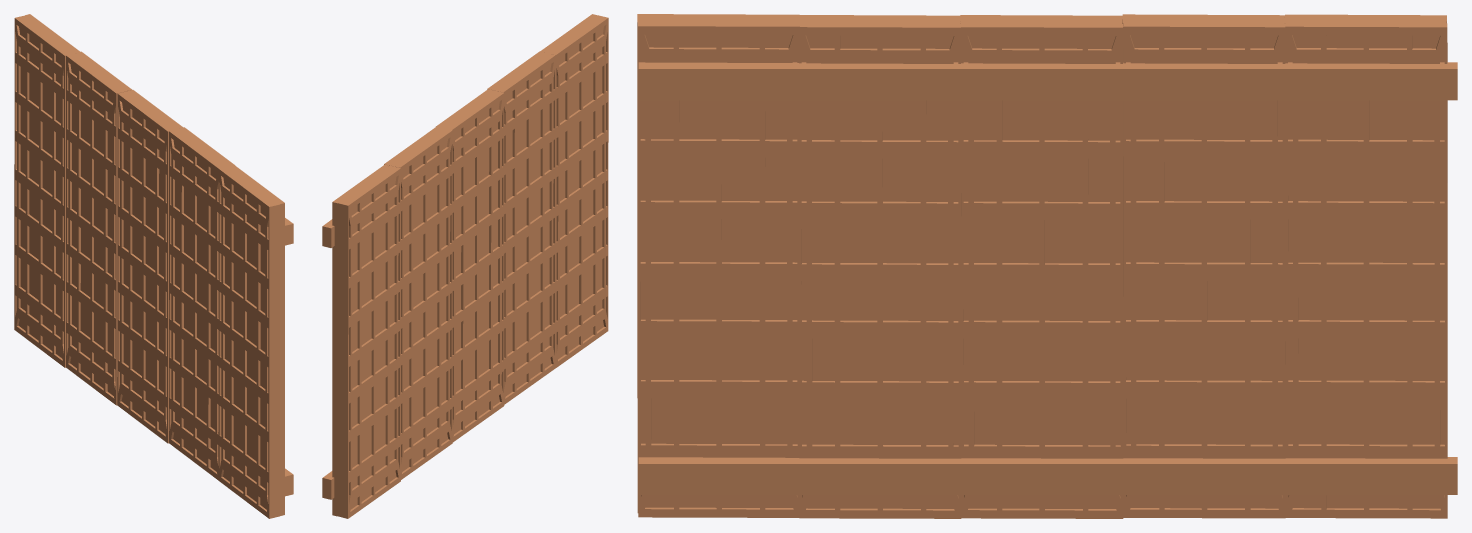
Rendered from Cerca2.fbx.
The picture shows the model from 3 angles, left to right: view 1: azimuth 30°, elevation 25°; view 2: azimuth 150°, elevation 25°; view 3: azimuth 270°, elevation 25°; orthographic projection. The views are drawn at different scales.
Parts seen in each view (by area): view 1: Cube.001; view 2: Cube.001; view 3: Cube.001.
Part boxes in pixels (x1,y1,x2,y2): Cube.001: [14, 14, 293, 518]; Cube.001: [322, 14, 608, 518]; Cube.001: [637, 14, 1457, 518].
Size of the model in its own units: 55.07 by 669 by 1012.
